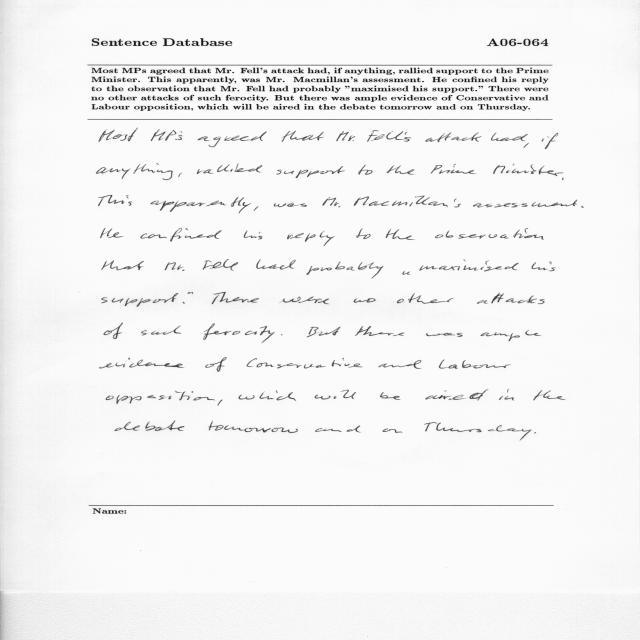word: (425, 423, 532, 441), (150, 197, 251, 214), (106, 391, 215, 404), (203, 324, 275, 343), (307, 262, 384, 279), (354, 196, 461, 208), (247, 358, 363, 369), (96, 164, 173, 180), (419, 260, 519, 272), (435, 229, 544, 240), (197, 132, 267, 148), (208, 421, 298, 433), (102, 293, 178, 307), (141, 229, 222, 242), (100, 358, 184, 369), (493, 164, 564, 176), (473, 200, 577, 208), (276, 166, 345, 178), (425, 389, 488, 401), (477, 293, 545, 304), (287, 231, 335, 246), (115, 421, 185, 431), (481, 330, 542, 341), (197, 164, 262, 174), (439, 360, 511, 369), (239, 391, 297, 402), (397, 293, 453, 304), (425, 133, 482, 143), (212, 292, 259, 304), (99, 128, 138, 142), (282, 130, 324, 142), (355, 326, 404, 336), (371, 130, 411, 142), (336, 131, 378, 142), (431, 164, 476, 174), (256, 259, 296, 270), (102, 261, 144, 271), (203, 259, 238, 271), (314, 390, 356, 400), (280, 297, 330, 305), (141, 326, 181, 336), (379, 360, 422, 369), (99, 195, 133, 206), (151, 129, 182, 141), (307, 327, 341, 337), (491, 133, 528, 142), (205, 357, 227, 372), (533, 391, 566, 401), (315, 426, 361, 433), (386, 229, 414, 240), (104, 323, 123, 339), (387, 165, 415, 175), (542, 133, 558, 149), (532, 262, 556, 272), (100, 229, 123, 239), (323, 198, 341, 208), (165, 262, 185, 271), (356, 228, 371, 239), (499, 390, 514, 401), (244, 231, 262, 240), (380, 392, 400, 400), (426, 333, 463, 337), (359, 165, 373, 175), (274, 203, 307, 207), (354, 298, 376, 303), (383, 428, 403, 433), (218, 399, 223, 406), (403, 271, 410, 275), (524, 143, 529, 148), (254, 206, 258, 211), (178, 173, 182, 177), (188, 292, 193, 294), (581, 206, 584, 208), (562, 178, 564, 180), (183, 302, 185, 304), (534, 432, 536, 434), (281, 334, 282, 335)
